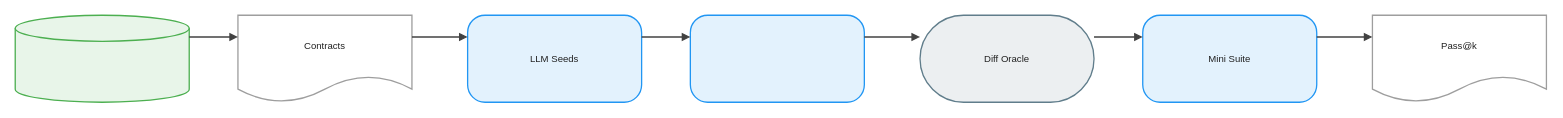
Some shapes in this 1563 by 118 pixel diagram are drawn without their labels. The shapes that lost their labels are listed below. From the top down, each one's centre as x and y in pixels, then its label:
point 101,58: Base Bench
point 777,58: Mutate In
